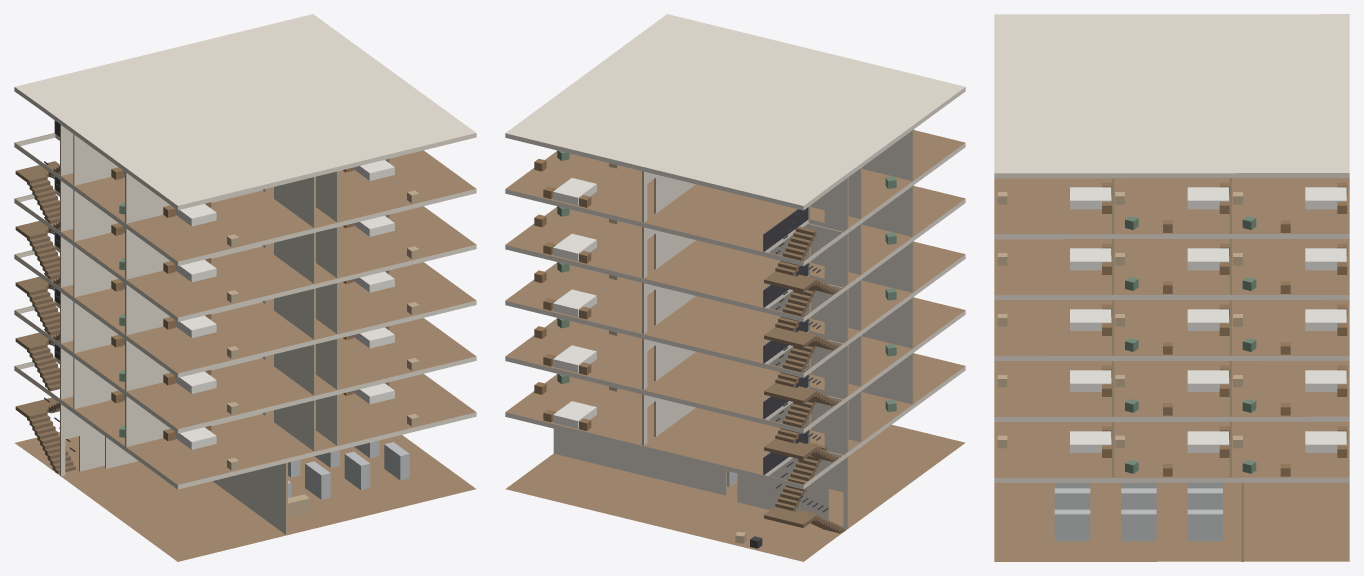
File: interior.glb
The picture shows the model from 3 angles, left to right: view 1: azimuth 30°, elevation 25°; view 2: azimuth 150°, elevation 25°; view 3: azimuth 270°, elevation 25°; orthographic projection. The views are drawn at different scales.
Visible parts, largest first — view 1: slabs, partitions, stair, coarse-s0, coarse-s2, coarse-s5, coarse-s3, coarse-s4, coarse-s1; view 2: slabs, partitions, stair, coarse-s3, coarse-s4, coarse-s1, coarse-s2, coarse-s5; view 3: slabs, coarse-s0, coarse-s4, coarse-s5, coarse-s1, coarse-s3, coarse-s2, partitions.
Boxes of the visible parts, box(x1,y1,x2,y2) form: slabs: box(14, 14, 476, 561); partitions: box(60, 124, 338, 534); stair: box(15, 120, 75, 473); coarse-s0: box(288, 440, 409, 518); coarse-s2: box(111, 326, 419, 414); coarse-s5: box(111, 159, 419, 246); coarse-s3: box(111, 270, 419, 358); coarse-s4: box(111, 214, 419, 302); coarse-s1: box(111, 382, 419, 470); slabs: box(505, 14, 965, 561); partitions: box(553, 129, 913, 528); stair: box(763, 207, 845, 533); coarse-s3: box(534, 262, 896, 319); coarse-s4: box(534, 206, 896, 263); coarse-s1: box(534, 373, 896, 430); coarse-s2: box(534, 318, 896, 375); coarse-s5: box(534, 150, 896, 207); slabs: box(994, 14, 1349, 561); coarse-s0: box(1054, 482, 1222, 541); coarse-s4: box(997, 243, 1347, 293); coarse-s5: box(997, 182, 1347, 232); coarse-s1: box(997, 426, 1347, 476); coarse-s3: box(997, 304, 1347, 354); coarse-s2: box(997, 365, 1347, 415); partitions: box(1112, 178, 1243, 561).
Size of the model in its own units: 18.18 by 20.69 by 17.13.
